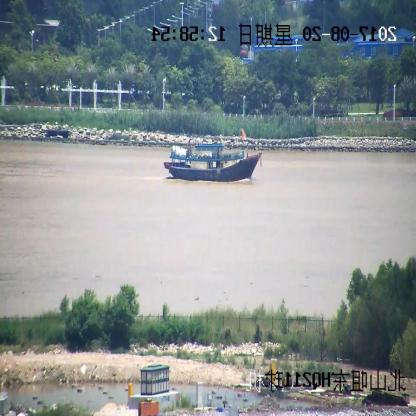Fishing Boat: (163, 143, 262, 182)
